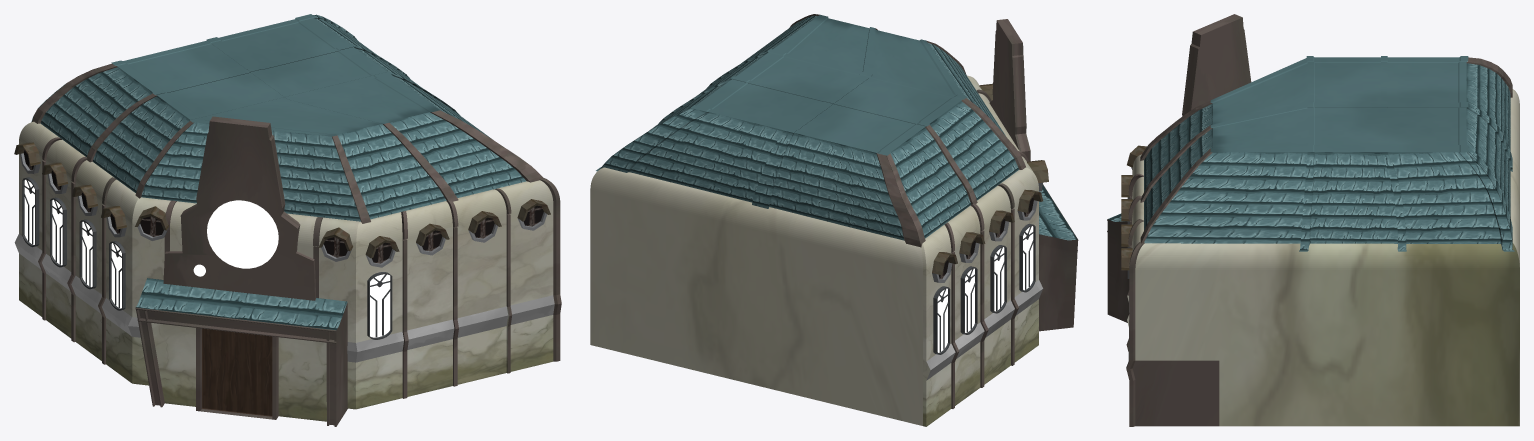
File: bar_v1.glb
3 views of the same model, side by side, from view 1: azimuth 30°, elevation 25°; view 2: azimuth 150°, elevation 25°; view 3: azimuth 270°, elevation 25° (orthographic).
Visible parts, largest first — view 1: Cube.241; view 2: Cube.241; view 3: Cube.241.
Boxes of the visible parts, left/top/right/bottom form: Cube.241: left=14, top=14, right=561, bottom=426; Cube.241: left=590, top=14, right=1078, bottom=426; Cube.241: left=1107, top=14, right=1519, bottom=426.
Size of the model in its own units: 13.65 by 9.86 by 13.63.
10 materials, 9 textured.
